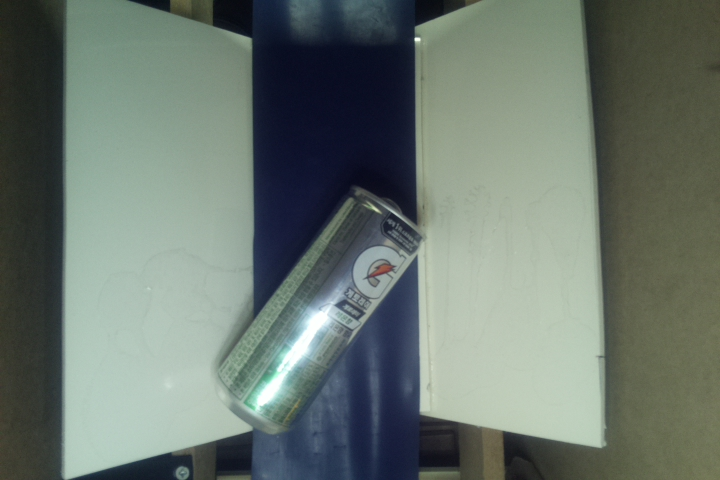can: (213, 181, 432, 437)
